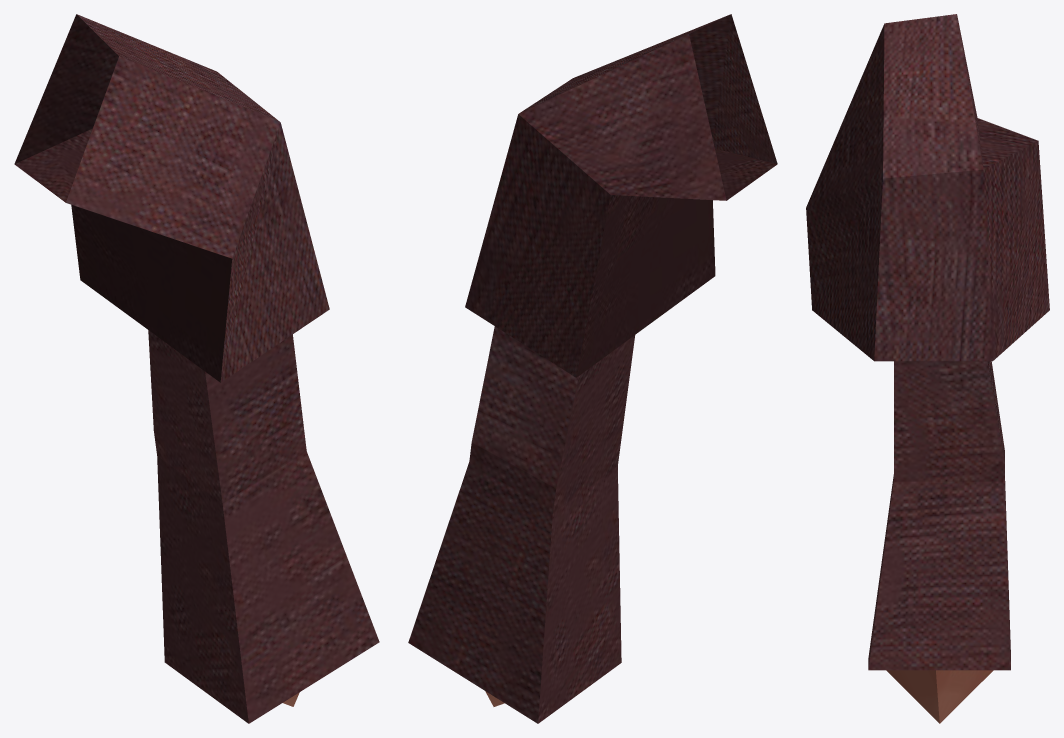
The model's file is Arm.fbx.
3 renders of one model, left to right at view 1: azimuth 30°, elevation 25°; view 2: azimuth 150°, elevation 25°; view 3: azimuth 270°, elevation 25°, orthographic. The views are drawn at different scales.
Visible parts, largest first — view 1: polySurface9; view 2: polySurface9; view 3: polySurface9.
Boxes of the visible parts, <box> form: polySurface9: <box>14,14,379,723</box>; polySurface9: <box>408,14,777,723</box>; polySurface9: <box>806,14,1049,723</box>.
Bounding box in the file's own units: 11.19 × 26.14 × 9.26.
1 material, 1 textured.
